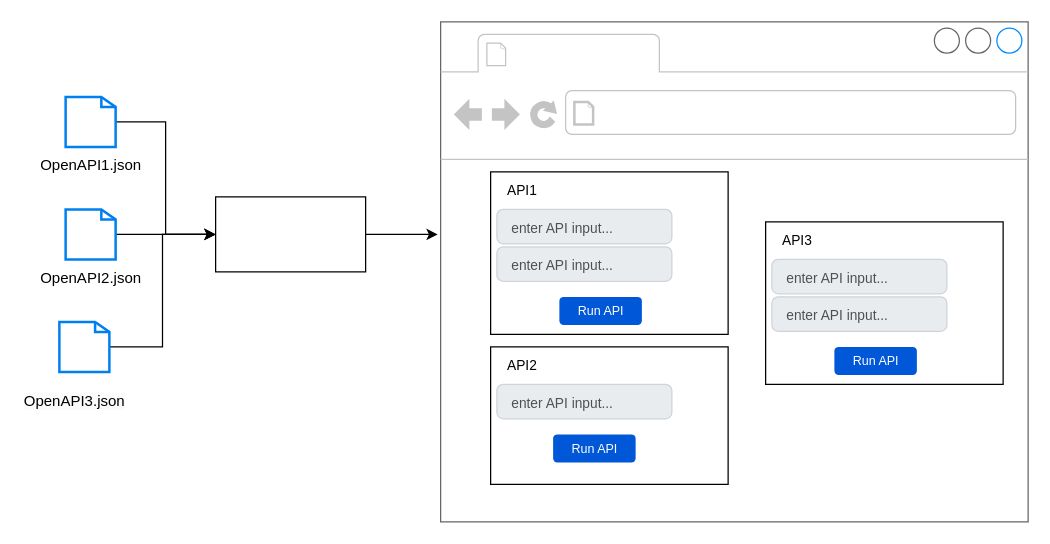
Some shapes in this 1050 by 544 pixel diagram are drawn without their labels. The centre of each missing label's shape, as x and y in pixels:
API front-end and client generator: (290,234)
Page 1: (583,52)
